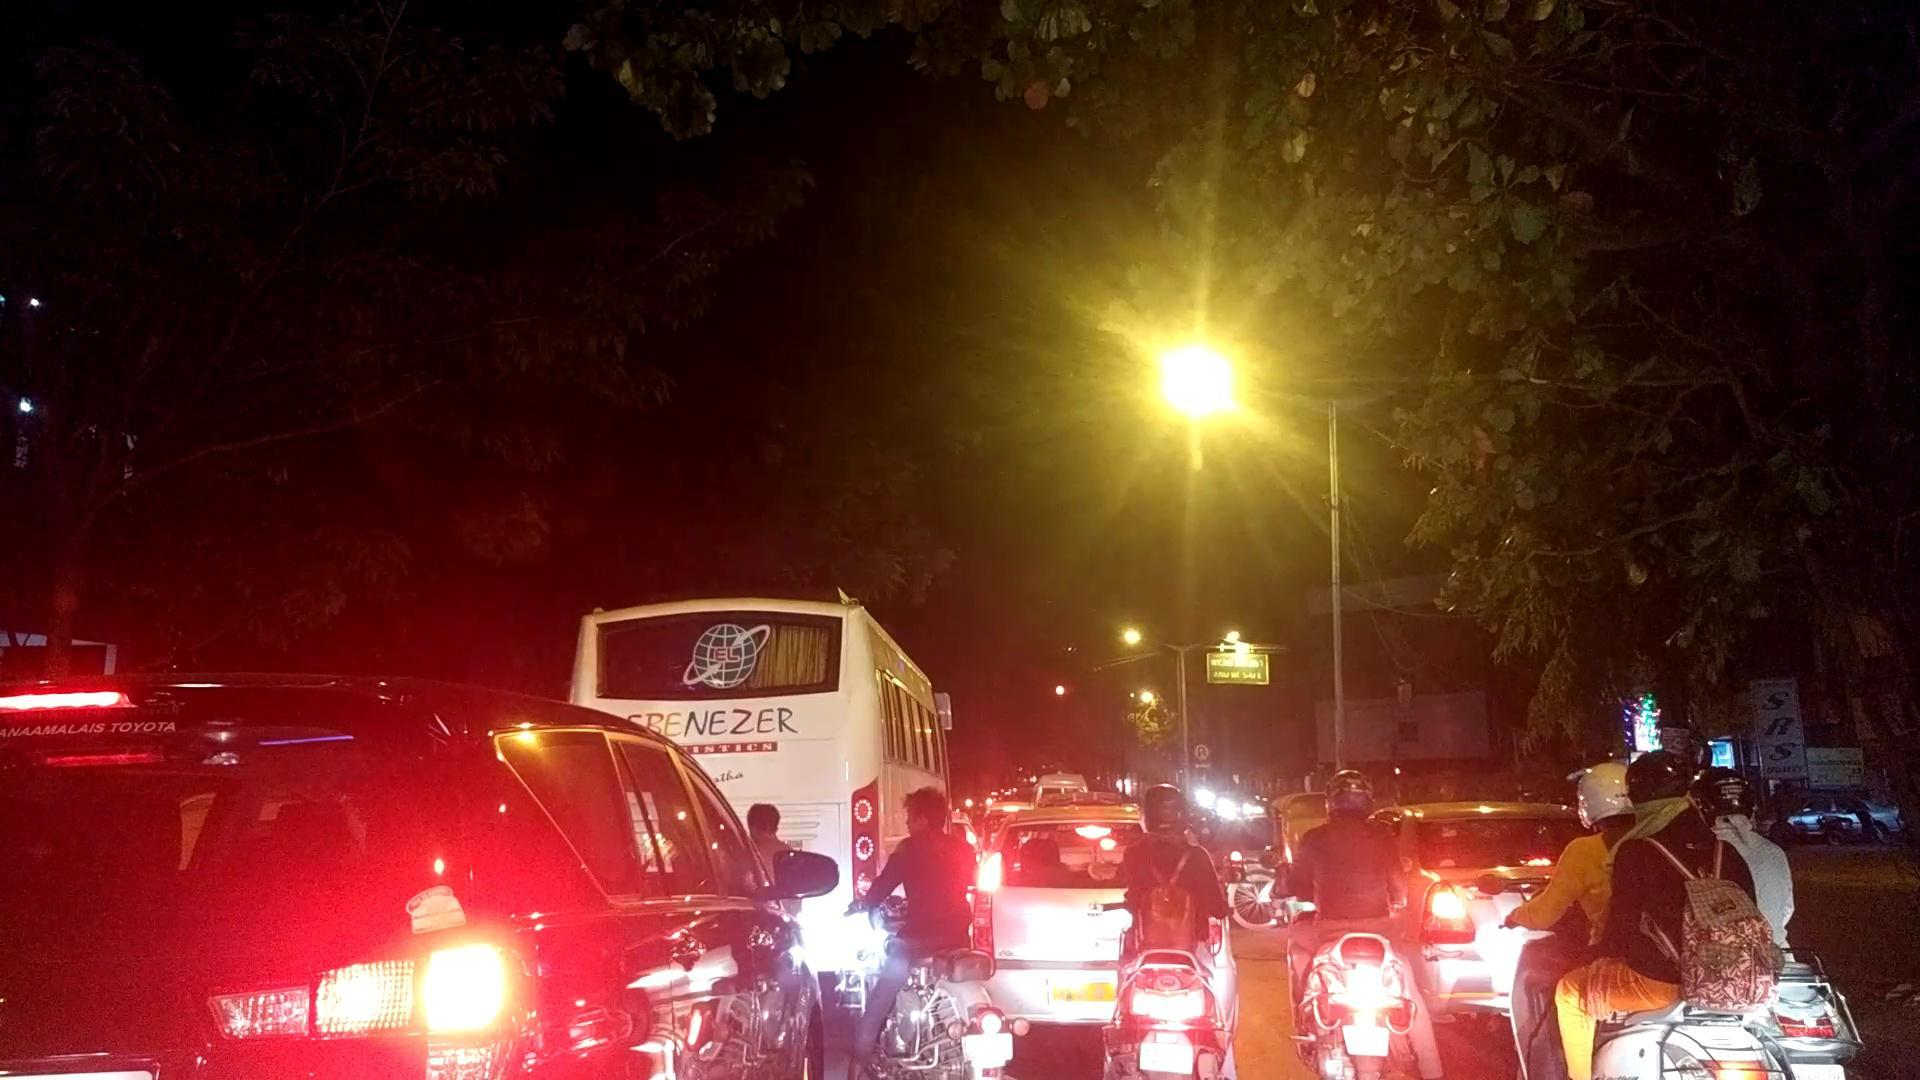on: (61, 3, 1920, 1080)
